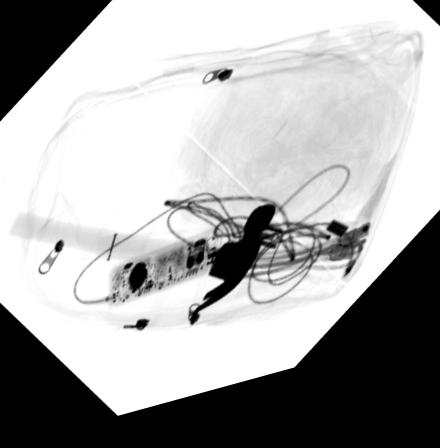Hammer: (6, 210, 276, 327)
